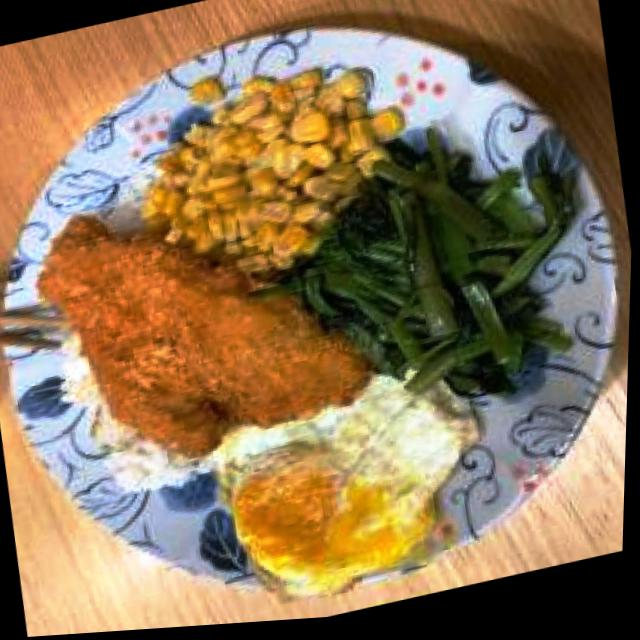fried_chicken: (22, 152, 383, 492)
fried_eggs: (202, 353, 502, 620)
rice: (93, 389, 199, 506), (56, 338, 99, 418)
water_spinach: (268, 102, 599, 431)
